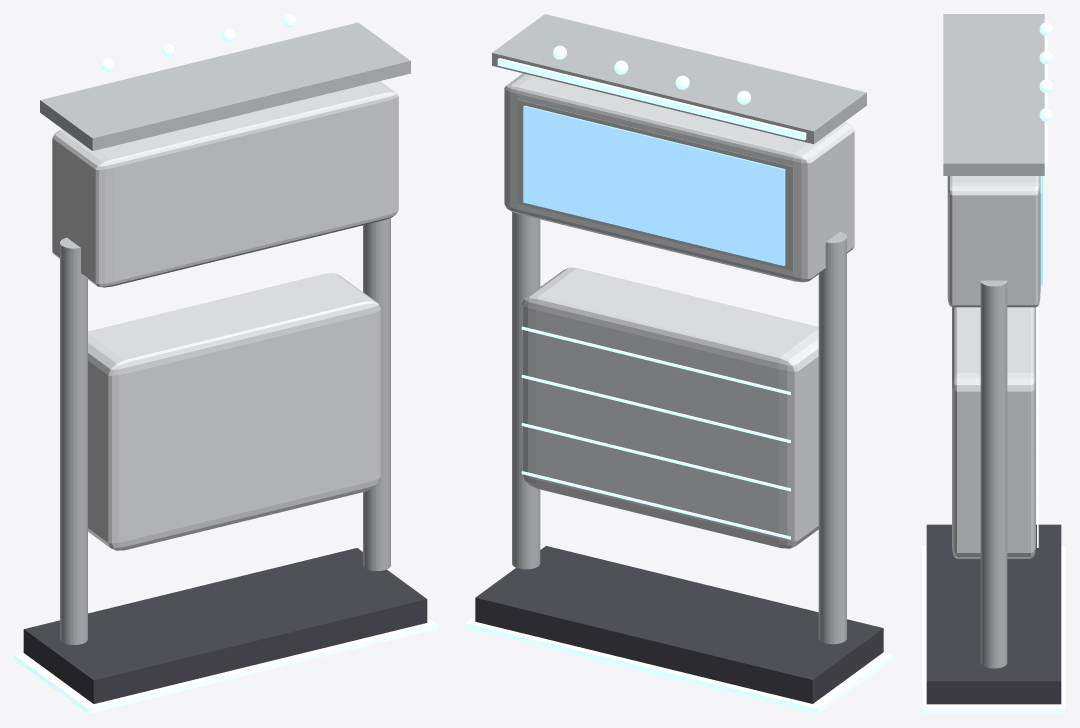
Rendered from citadel_policy_terminal.glb.
The picture shows the model from 3 angles, left to right: view 1: azimuth 30°, elevation 25°; view 2: azimuth 150°, elevation 25°; view 3: azimuth 270°, elevation 25°; orthographic projection. The views are drawn at different scales.
Parts seen in each view (by area): view 1: Terminal_Body, Terminal_Upper, Terminal_Base, Terminal_Crown, Terminal_SideCol_L, Terminal_SideCol_R, Terminal_GlowStrip; view 2: Terminal_Body, Terminal_Base, Terminal_Screen, Terminal_Upper, Terminal_Crown, Terminal_SideCol_L, Terminal_SideCol_R, Terminal_GlowStrip, Terminal_Bezel, Terminal_CrownGlow, Terminal_Stripe_1.0, Terminal_Stripe_1.9 (+2 smaller); view 3: Terminal_Base, Terminal_Crown, Terminal_Body, Terminal_Upper, Terminal_SideCol_R, Terminal_GlowStrip, Terminal_CrownGlow, Terminal_Screen.
Boxes of the visible parts, x1,y1,x2,y2 form: Terminal_Body: [88, 273, 380, 550]; Terminal_Upper: [52, 81, 398, 287]; Terminal_Base: [23, 548, 427, 703]; Terminal_Crown: [40, 22, 410, 150]; Terminal_SideCol_L: [60, 237, 87, 644]; Terminal_SideCol_R: [363, 218, 390, 570]; Terminal_GlowStrip: [14, 617, 436, 713]; Terminal_Body: [522, 267, 818, 548]; Terminal_Base: [475, 546, 883, 703]; Terminal_Screen: [523, 105, 785, 265]; Terminal_Upper: [504, 73, 854, 282]; Terminal_Crown: [492, 14, 866, 144]; Terminal_SideCol_L: [818, 232, 846, 644]; Terminal_SideCol_R: [512, 212, 540, 569]; Terminal_GlowStrip: [465, 616, 893, 713]; Terminal_Bezel: [517, 99, 793, 271]; Terminal_CrownGlow: [497, 58, 806, 140]; Terminal_Stripe_1.0: [521, 471, 790, 539]; Terminal_Stripe_1.9: [521, 326, 790, 394]; Terminal_Base: [926, 524, 1061, 704]; Terminal_Crown: [943, 14, 1044, 175]; Terminal_Body: [952, 307, 1035, 558]; Terminal_Upper: [947, 176, 1040, 307]; Terminal_SideCol_R: [980, 280, 1007, 668]; Terminal_GlowStrip: [922, 545, 1065, 713]; Terminal_CrownGlow: [1044, 20, 1047, 169]; Terminal_Screen: [1040, 176, 1042, 285].
Size of the model in its own units: 2.3 by 3.71 by 0.85.
